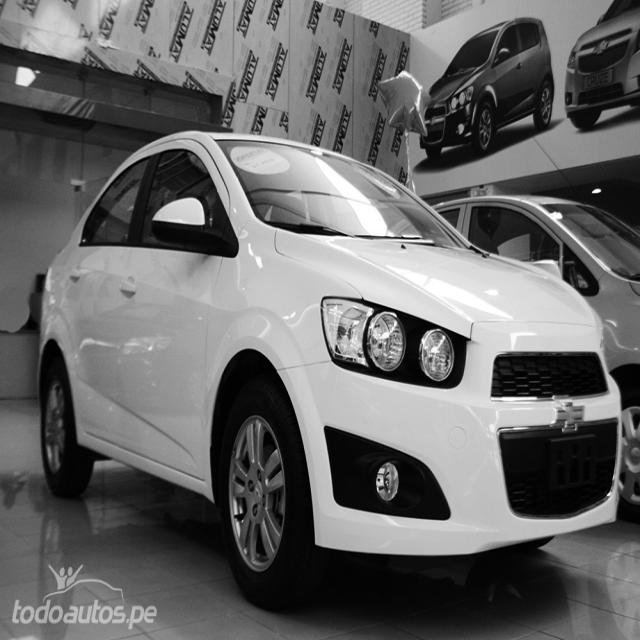car: (36, 129, 623, 611), (428, 193, 640, 520), (419, 17, 554, 160), (564, 0, 639, 129)
